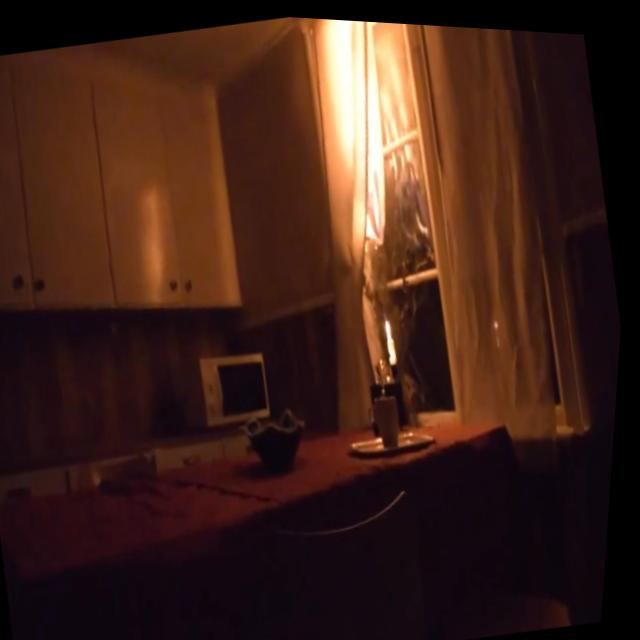fire: (284, 14, 442, 252), (386, 312, 397, 331)
